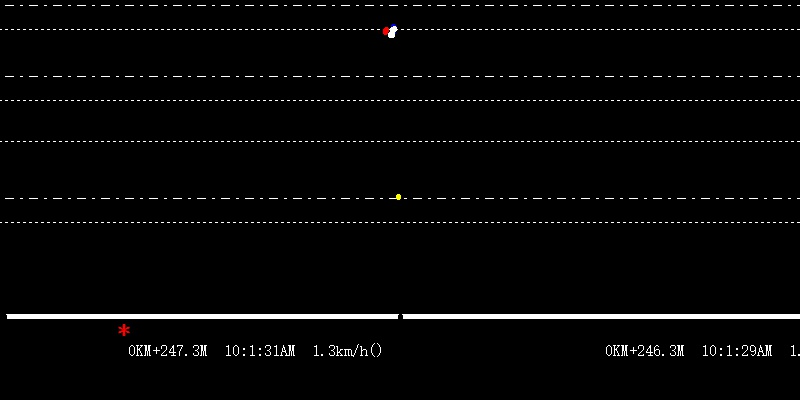face_s: (388, 21, 396, 40)
star: (117, 322, 130, 337)
